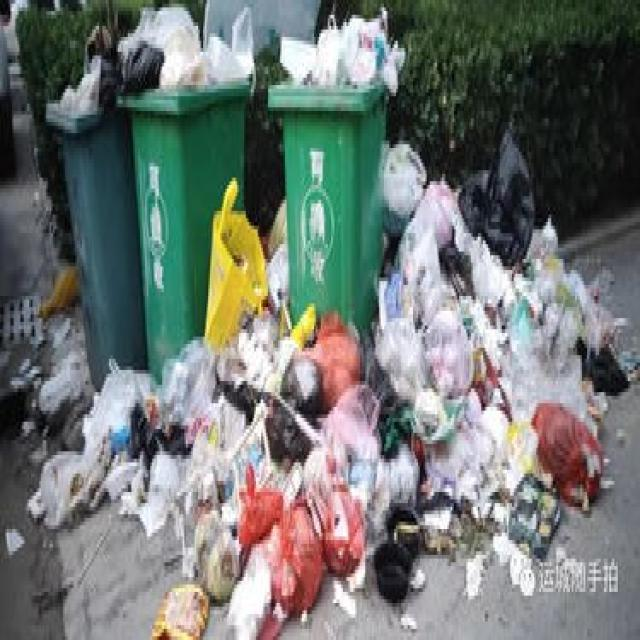garbage: (5, 133, 628, 636)
overflow: (116, 0, 256, 381), (264, 3, 402, 326), (42, 19, 146, 388)
